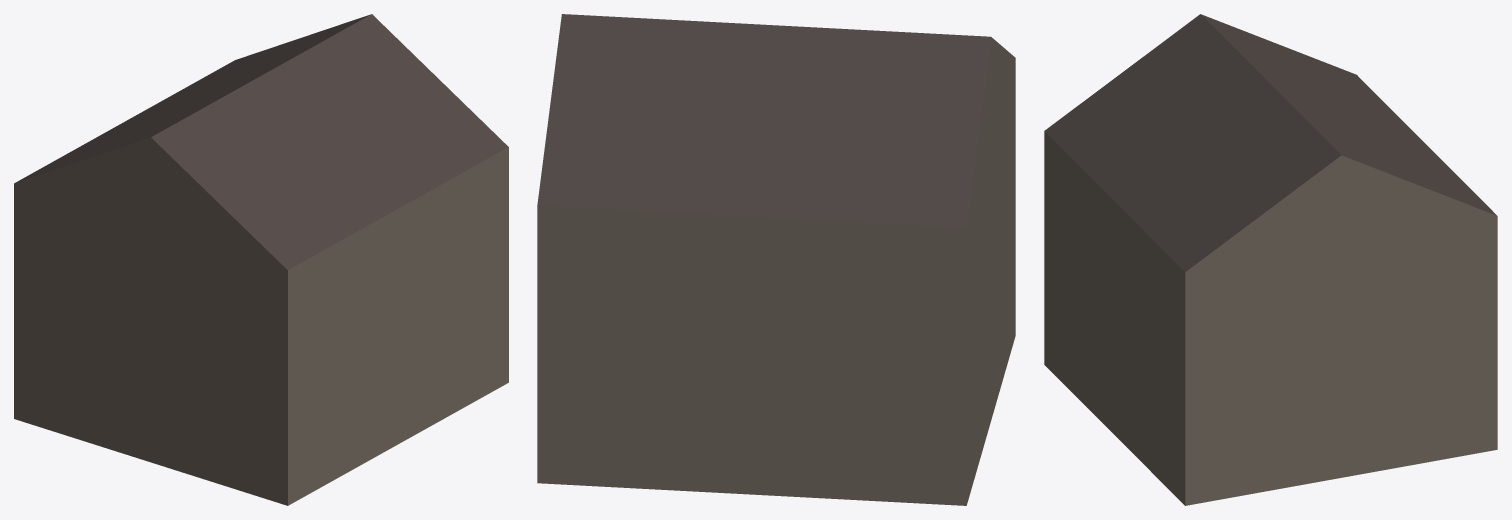
The picture shows the model from 3 angles, left to right: view 1: azimuth 30°, elevation 25°; view 2: azimuth 150°, elevation 25°; view 3: azimuth 270°, elevation 25°; orthographic projection. The views are drawn at different scales.
Visible parts, largest first — view 1: HP-w1287936349; view 2: HP-w1287936349; view 3: HP-w1287936349.
Part boxes in pixels (left/top/right/bottom): HP-w1287936349: left=14, top=14, right=508, bottom=505; HP-w1287936349: left=537, top=14, right=1015, bottom=505; HP-w1287936349: left=1044, top=14, right=1497, bottom=505.
Size of the model in its own units: 10.88 by 8.28 by 10.56.
